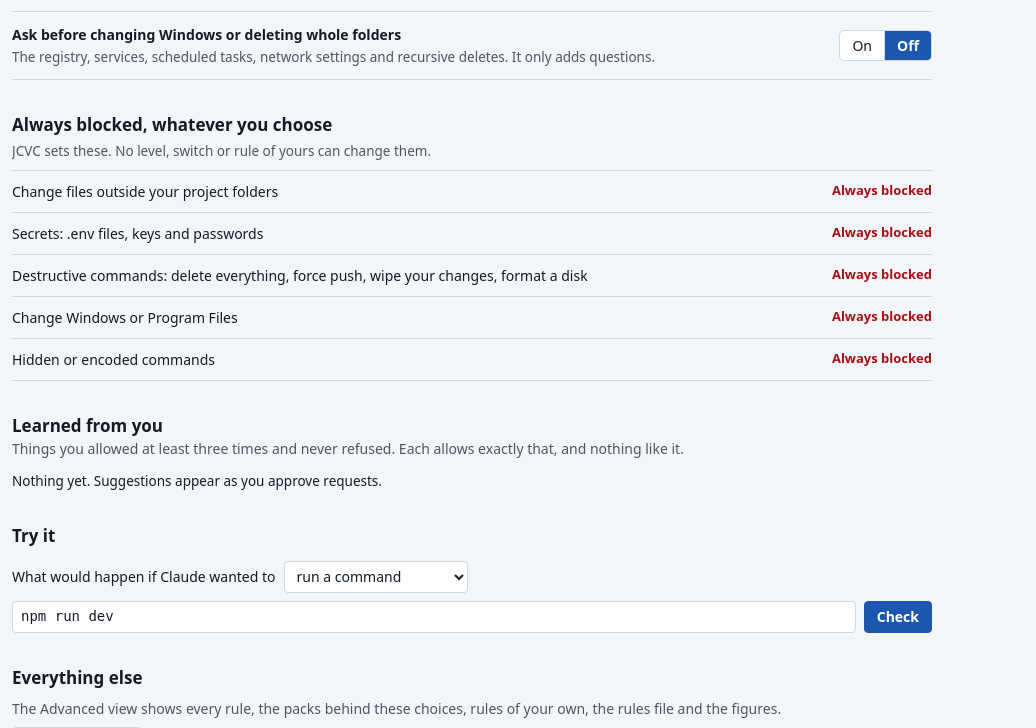
Scenario: the plain Policy page › answers what would happen, in words
The image size is (1036, 728).
(page scrolled)
Replace the text in the field named "The command" with "npm install react" at (434, 617), box [12, 601, 856, 633]
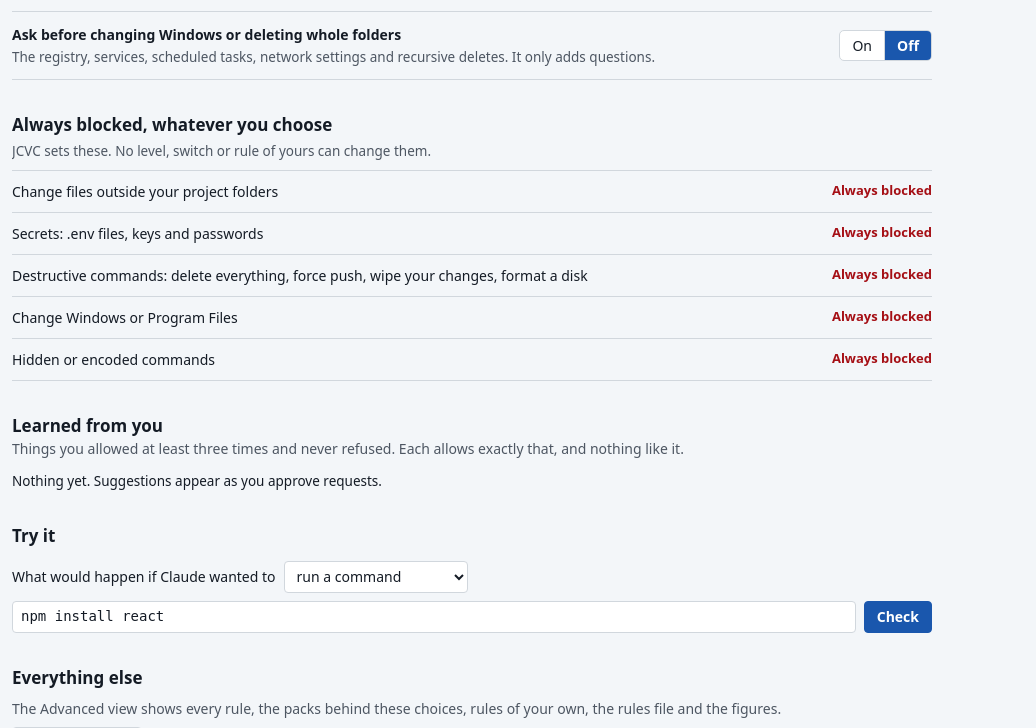
Click the button "Check" at (898, 617), box [864, 601, 932, 633]
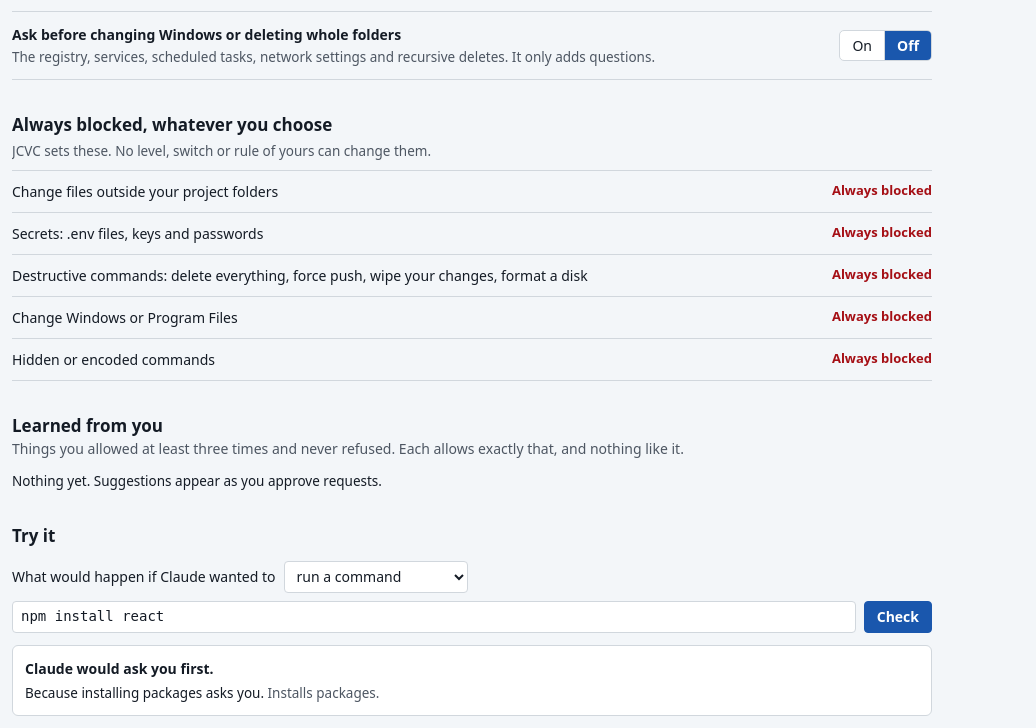
Expected: the text "Claude would ask you first." is shown, [25, 659, 214, 678]
Expected: the text "Because installing packages asks you. Installs packages." is shown, [25, 684, 380, 702]
